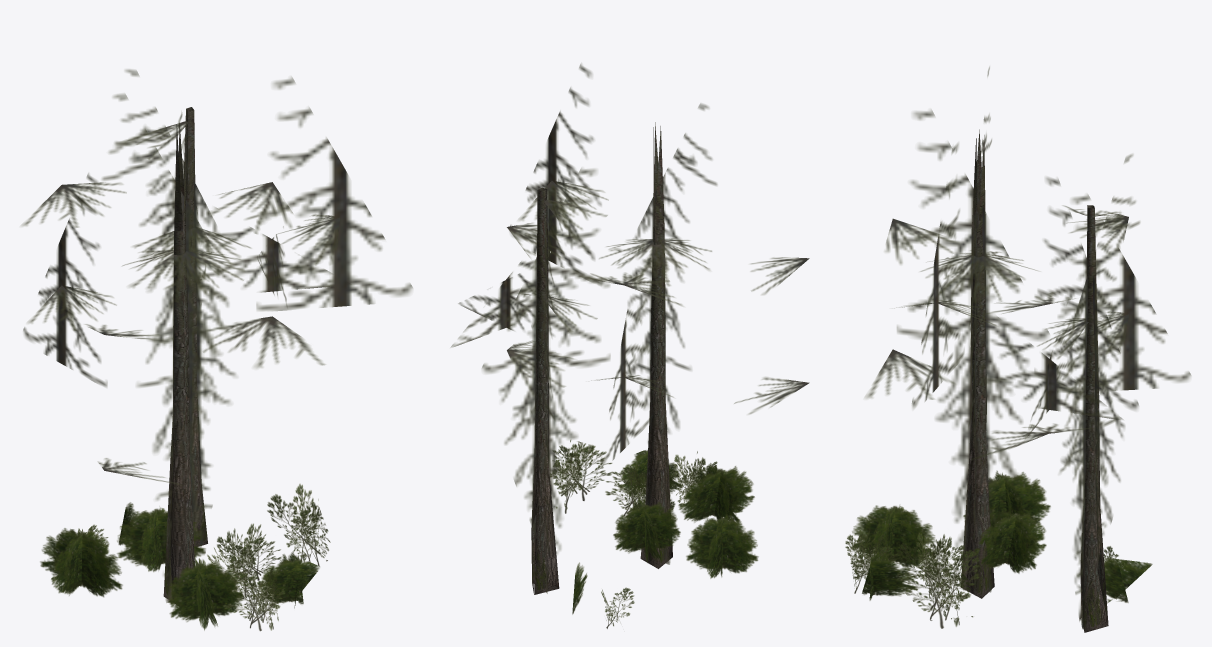
Rendered from bosque_pino.glb.
The picture shows the model from 3 angles, left to right: view 1: azimuth 30°, elevation 25°; view 2: azimuth 150°, elevation 25°; view 3: azimuth 270°, elevation 25°; orthographic projection. The views are drawn at different scales.
Parts seen in each view (by area): view 1: bosque_pino.glb; view 2: bosque_pino.glb; view 3: bosque_pino.glb.
Boxes of the visible parts, box(x1,y1,x2,y2) form: bosque_pino.glb: box(21, 69, 412, 631); bosque_pino.glb: box(451, 64, 809, 628); bosque_pino.glb: box(845, 67, 1190, 632).
Size of the model in its own units: 16.77 by 29.27 by 16.73.
2 materials, 2 textured.
